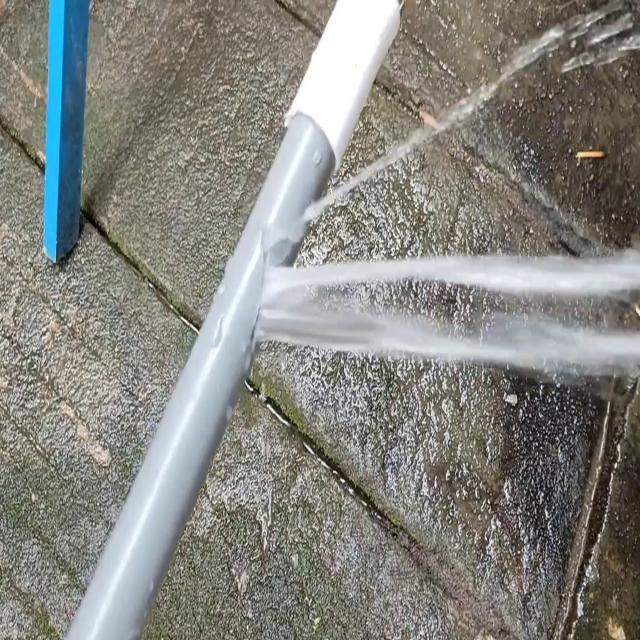leak: (257, 0, 640, 397)
